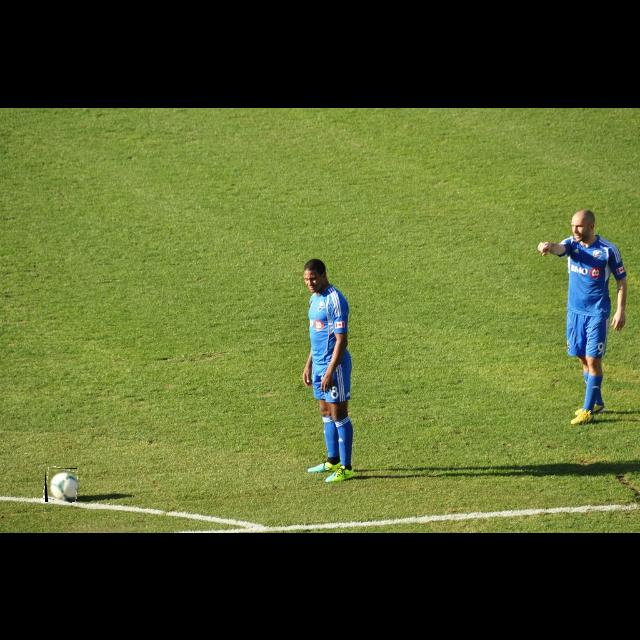Football: (45, 468, 77, 502)
